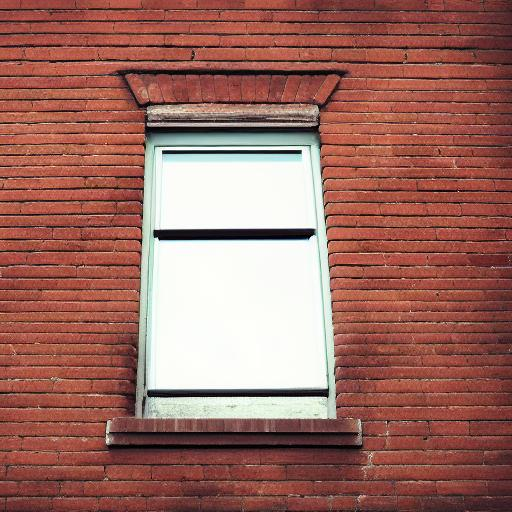Window: (106, 69, 365, 451)
